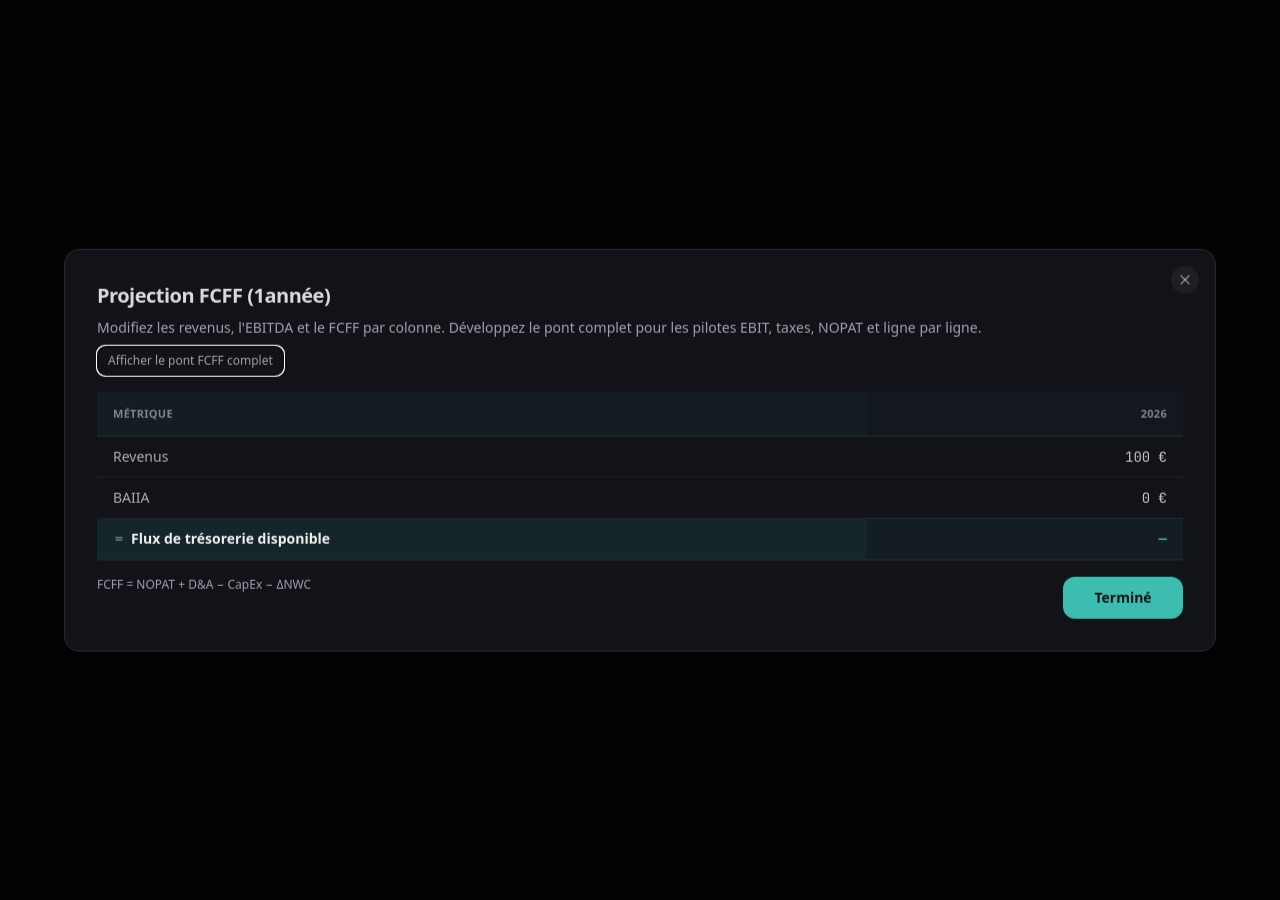
DCF input presentation in fr › shows unresolved cash flow as a dash while an observed zero remains editable
Expected: the text "—" is shown, [867, 518, 1183, 559]
Click the cell "0 €" at (1154, 497), box [867, 477, 1183, 518]
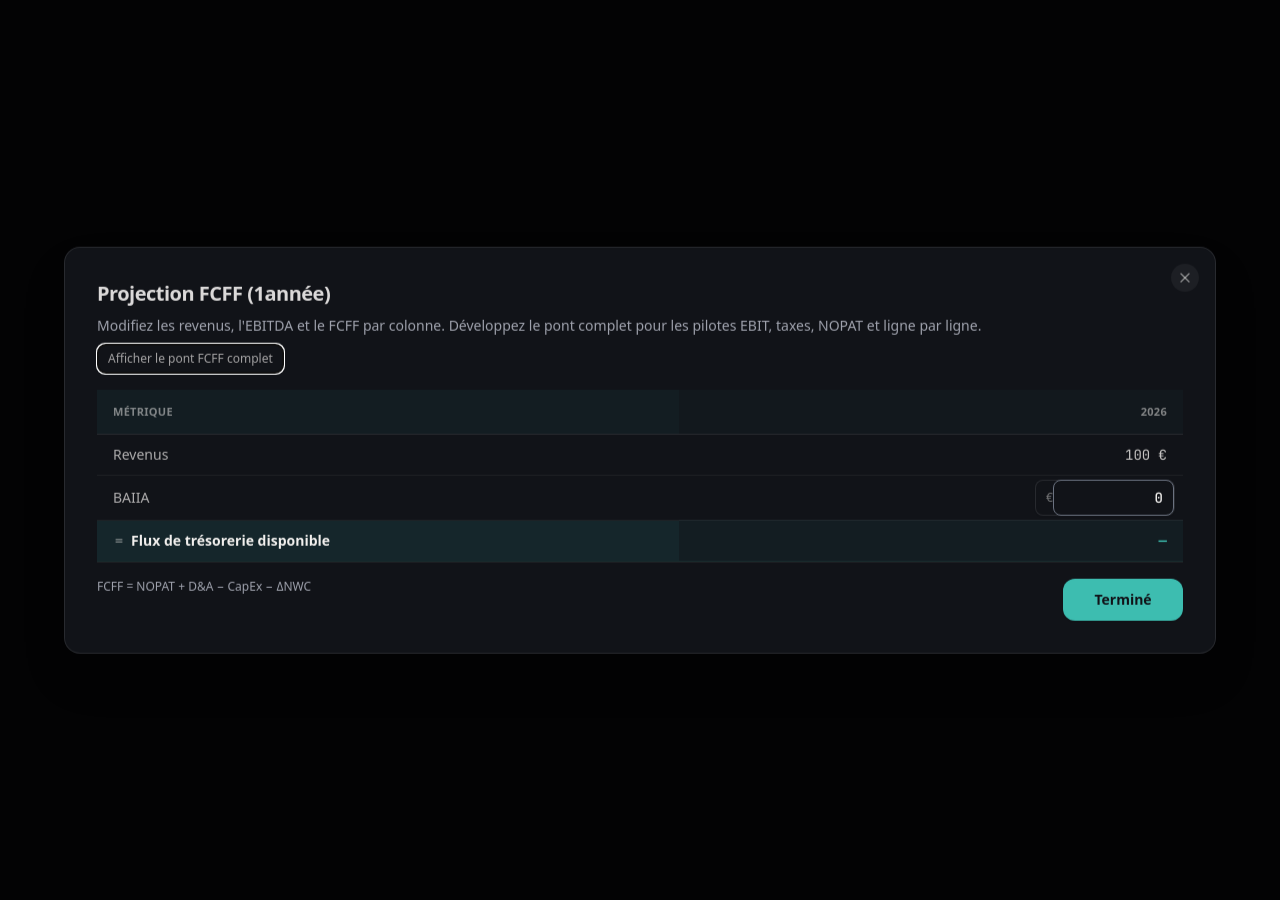
Expected: the field named "ebitda 2026" holds "0", [1053, 479, 1174, 515]
